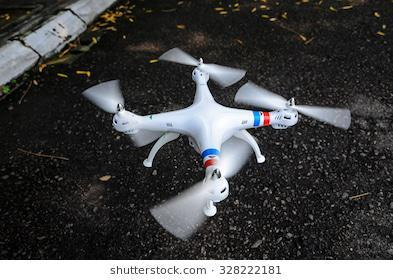drone: (84, 50, 354, 241)
